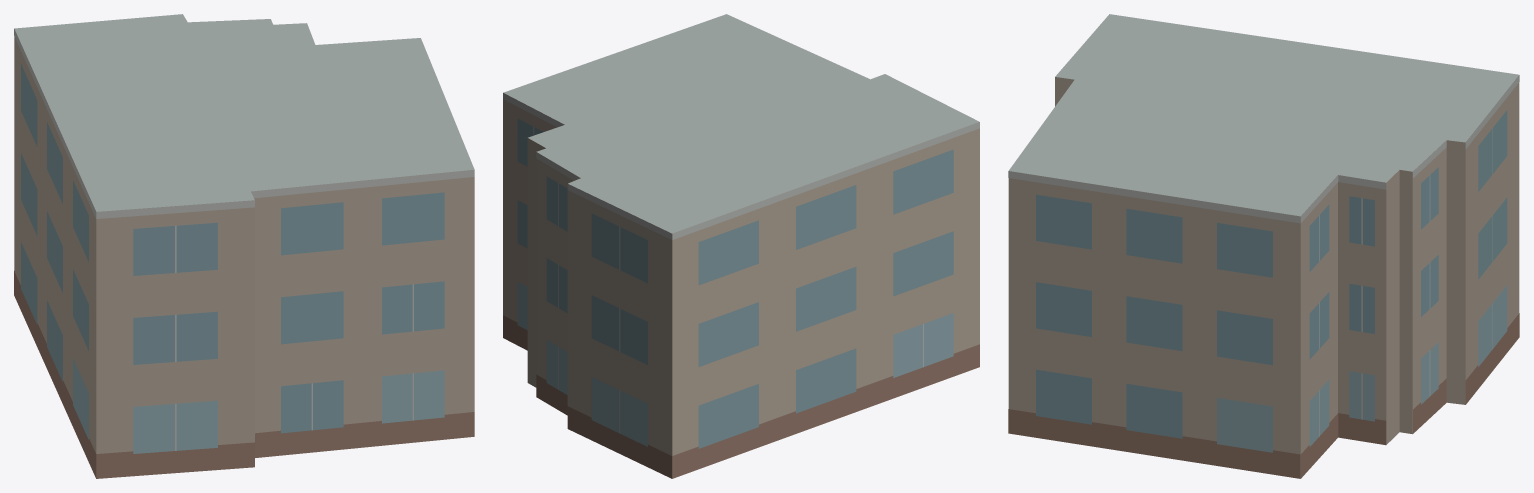
File: survey-upis-32962002.glb
3 views of the same model, side by side, from view 1: azimuth 30°, elevation 25°; view 2: azimuth 150°, elevation 25°; view 3: azimuth 270°, elevation 25° (orthographic). The views are drawn at different scales.
Parts seen in each view (by area): view 1: survey-upis-32962002.tmp; view 2: survey-upis-32962002.tmp; view 3: survey-upis-32962002.tmp.
Part boxes in pixels (x1=…): survey-upis-32962002.tmp: x1=14, y1=14, x2=474, y2=478; survey-upis-32962002.tmp: x1=503, y1=14, x2=979, y2=478; survey-upis-32962002.tmp: x1=1008, y1=14, x2=1519, y2=478.
Bounding box in the file's own units: 15.14 × 9.15 × 16.15.
